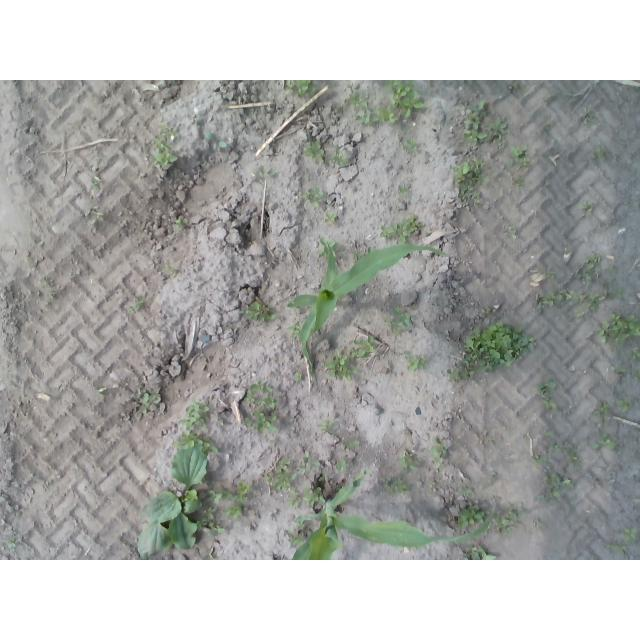Maize: (288, 242, 449, 377), (291, 474, 498, 559)
Weeds: (138, 444, 208, 556), (444, 321, 536, 383), (530, 428, 578, 503), (174, 397, 221, 454), (241, 378, 279, 434), (464, 100, 508, 148), (208, 480, 252, 521), (386, 80, 425, 120), (455, 158, 490, 202), (577, 289, 624, 318), (598, 313, 640, 343), (150, 125, 178, 167), (379, 216, 418, 246), (325, 347, 357, 381), (495, 503, 526, 535), (381, 307, 412, 336), (535, 291, 573, 314), (264, 459, 293, 489), (240, 299, 277, 321), (293, 452, 320, 481), (197, 509, 223, 536), (575, 254, 600, 282), (302, 139, 328, 165), (456, 505, 485, 528), (539, 377, 560, 408), (357, 109, 399, 124), (286, 81, 319, 100), (431, 436, 450, 469), (136, 390, 161, 415), (348, 336, 377, 357), (300, 186, 326, 207), (302, 488, 327, 509), (382, 476, 408, 496), (26, 242, 45, 269), (316, 238, 340, 259), (461, 548, 497, 561), (126, 294, 147, 315), (399, 452, 421, 472), (204, 132, 228, 150), (594, 433, 616, 452), (405, 354, 428, 372), (509, 144, 529, 164), (330, 147, 350, 166), (287, 526, 306, 546), (592, 402, 614, 419), (348, 92, 368, 109), (286, 490, 303, 510), (616, 396, 633, 413), (582, 109, 599, 126), (287, 320, 302, 338), (402, 136, 418, 152), (342, 435, 361, 448), (317, 420, 336, 433), (593, 143, 608, 159), (259, 166, 277, 179), (609, 543, 627, 555), (172, 216, 186, 231), (623, 527, 638, 541), (506, 225, 522, 237), (38, 276, 54, 288), (397, 184, 414, 195), (84, 210, 101, 221), (165, 264, 179, 277), (543, 267, 557, 280), (204, 548, 217, 561), (326, 213, 339, 226), (484, 430, 497, 443), (335, 459, 349, 471), (90, 179, 102, 193), (613, 365, 628, 376), (630, 347, 640, 362), (46, 289, 59, 300), (91, 159, 101, 172), (459, 488, 473, 497), (632, 367, 640, 382), (515, 174, 525, 186), (6, 539, 16, 550), (334, 105, 346, 114), (317, 476, 329, 485), (580, 200, 593, 208), (610, 263, 619, 273), (546, 94, 556, 103), (291, 373, 301, 382), (510, 81, 519, 89), (97, 387, 108, 393), (429, 482, 437, 489), (483, 309, 492, 315), (270, 440, 276, 447)
